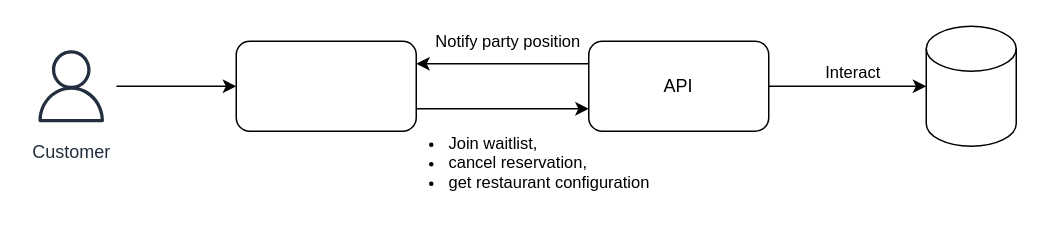
Image size: 1043x234. Some labels were removed from this diagram. Each missing label, with the centre of its shape:
MongoDB: the point at 970,85
UI: the point at 325,85
